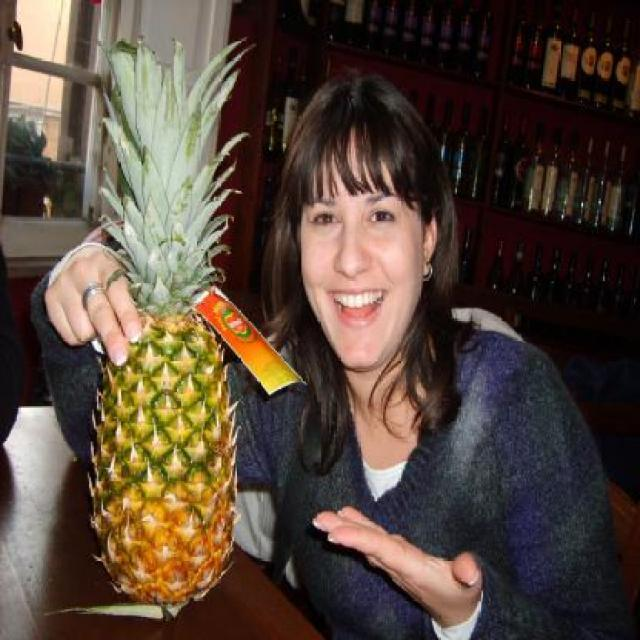Pineapple: (44, 32, 256, 623)
